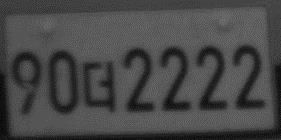0: (46, 48, 80, 113)
2: (121, 46, 156, 114), (158, 46, 193, 113), (194, 46, 230, 111), (232, 43, 265, 110)
9: (9, 49, 42, 116)
더: (80, 58, 118, 115)
